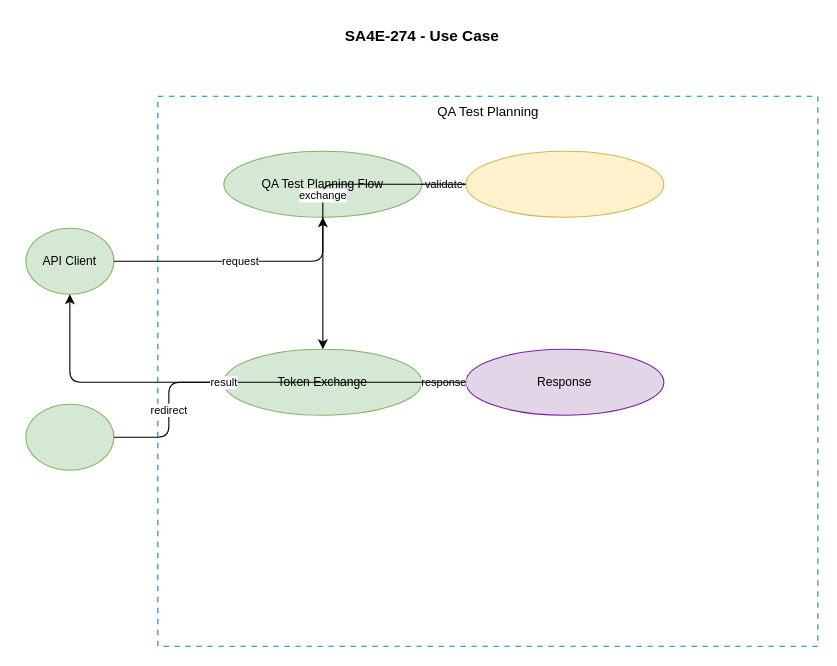
The diagram is 837 pixels wide and 666 high, and some of its shapes have lost their labels. Here are the shapes that lost their labels. From the top down, the centre of each, then its label:
At point (564, 183): "Validation / Auth".
At point (69, 436): "Extension/Browser".
